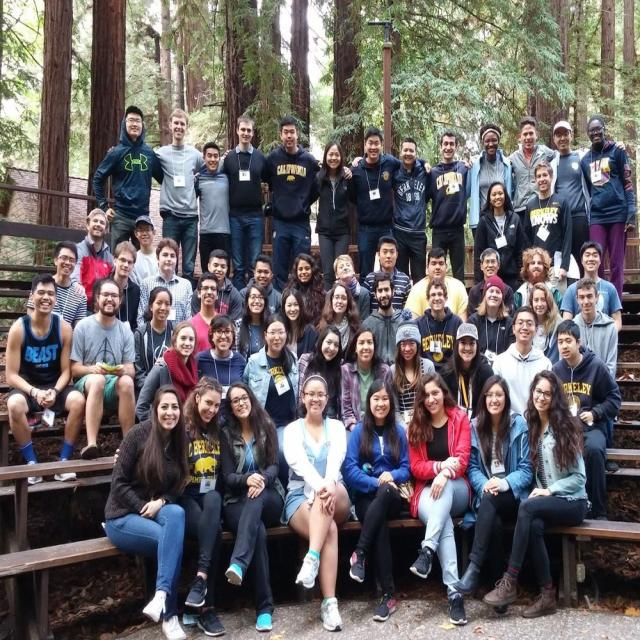body: (111, 370, 230, 639), (478, 366, 594, 623), (220, 115, 352, 295), (103, 382, 190, 640), (278, 368, 354, 634), (452, 373, 534, 616), (214, 378, 288, 634), (339, 376, 414, 625), (350, 136, 472, 288), (2, 269, 86, 486), (406, 370, 473, 628), (549, 318, 623, 524), (344, 125, 434, 283), (67, 275, 140, 465), (91, 104, 164, 260), (579, 114, 638, 304), (566, 276, 621, 475), (467, 114, 561, 230), (241, 311, 302, 488), (195, 140, 270, 278), (154, 107, 206, 290), (222, 114, 268, 292), (491, 304, 554, 427), (423, 130, 472, 284), (133, 319, 200, 430), (520, 160, 574, 296), (308, 138, 354, 293), (192, 312, 248, 431), (339, 325, 401, 432), (548, 120, 589, 280), (464, 123, 518, 243), (436, 320, 498, 424), (472, 180, 527, 294), (25, 240, 88, 337), (560, 240, 623, 334), (389, 321, 437, 439), (68, 206, 117, 318), (133, 285, 177, 406), (135, 237, 194, 327), (403, 246, 470, 324), (361, 272, 414, 368), (412, 276, 464, 370), (92, 240, 142, 333), (296, 323, 343, 419), (360, 234, 414, 316), (188, 248, 244, 324), (466, 275, 516, 356), (230, 282, 278, 365), (315, 281, 361, 364), (281, 251, 327, 329), (512, 247, 564, 316), (466, 246, 514, 320), (182, 270, 223, 355), (326, 254, 371, 326), (528, 282, 565, 367), (280, 285, 321, 361), (238, 253, 284, 317), (126, 214, 164, 287)
